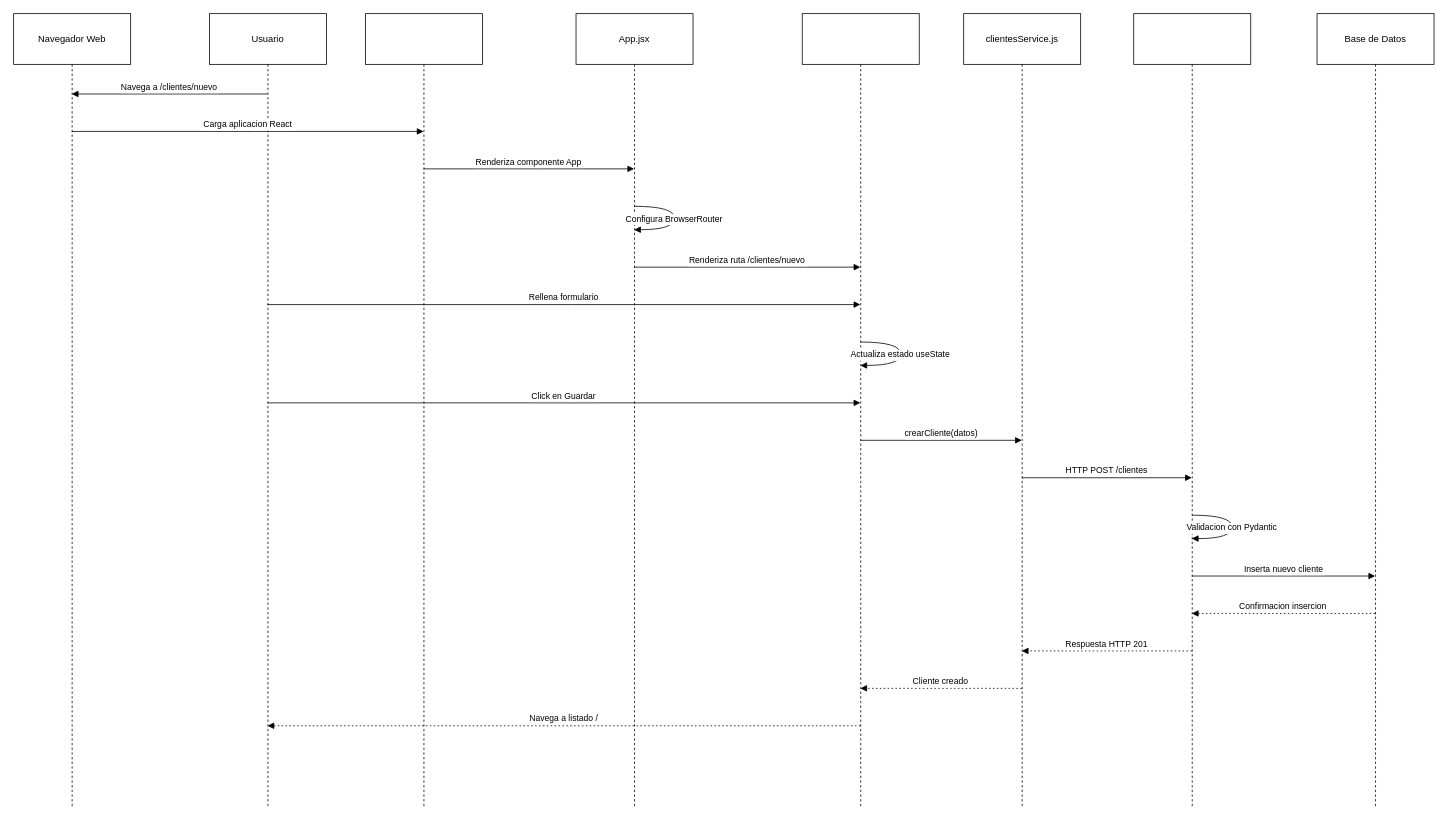
Image size: 1448x821. Some labels were removed from this diagram. The shapes that lost their labels are listed below. From the top down, each one's box as (x1, y1, x2, y2) in pixels, then its label:
(365, 13, 482, 808): main.jsx
(801, 13, 919, 808): ClienteNuevo.jsx
(1133, 13, 1251, 808): API FastAPI
